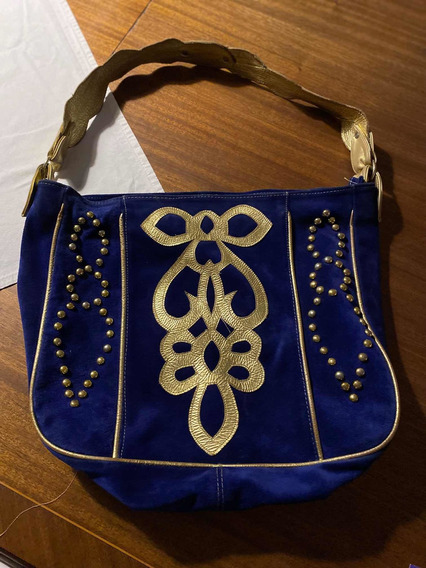cartera: (17, 39, 401, 517)
